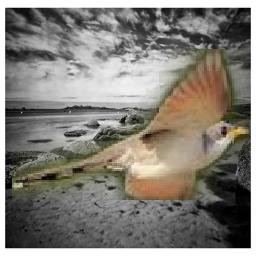Cuckoo: (12, 50, 250, 201)
